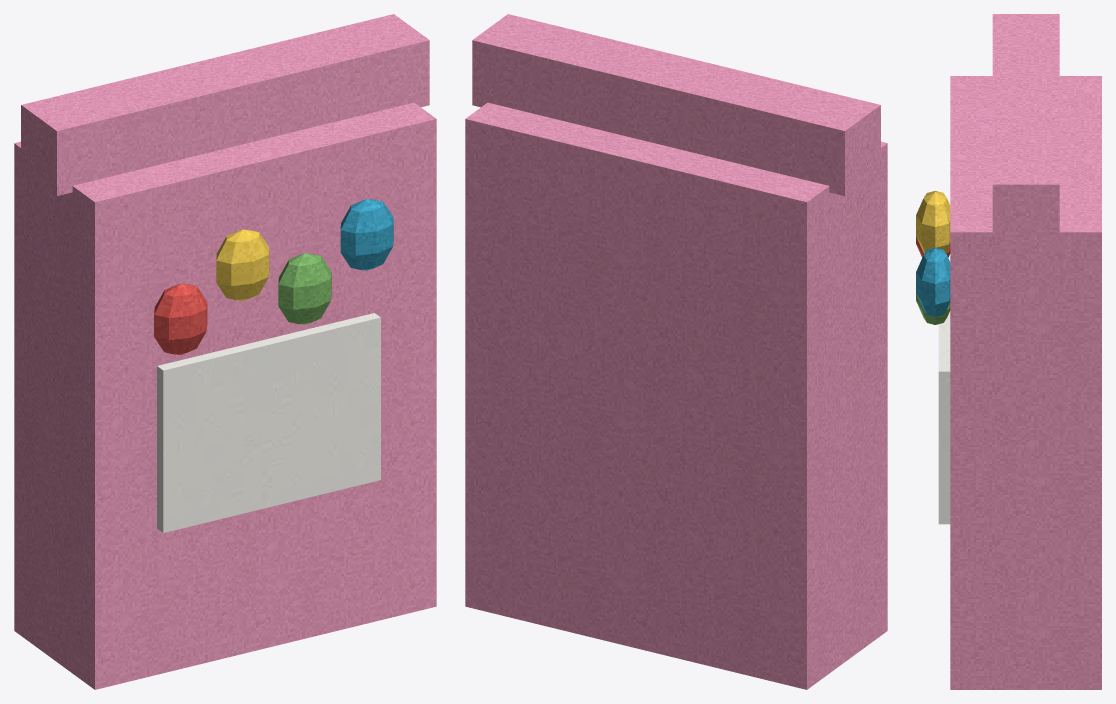
The picture shows the model from 3 angles, left to right: view 1: azimuth 30°, elevation 25°; view 2: azimuth 150°, elevation 25°; view 3: azimuth 270°, elevation 25°; orthographic projection. The views are drawn at different scales.
Visible parts, largest first — view 1: candy_bag; view 2: candy_bag; view 3: candy_bag.
Part boxes in pixels (<box>): candy_bag: <box>14,14,436,689</box>; candy_bag: <box>465,14,887,689</box>; candy_bag: <box>916,14,1101,689</box>.
Bounding box in the file's own units: 0.12 × 0.168 × 0.0552.
Materials: 6 (6 with a texture image).
